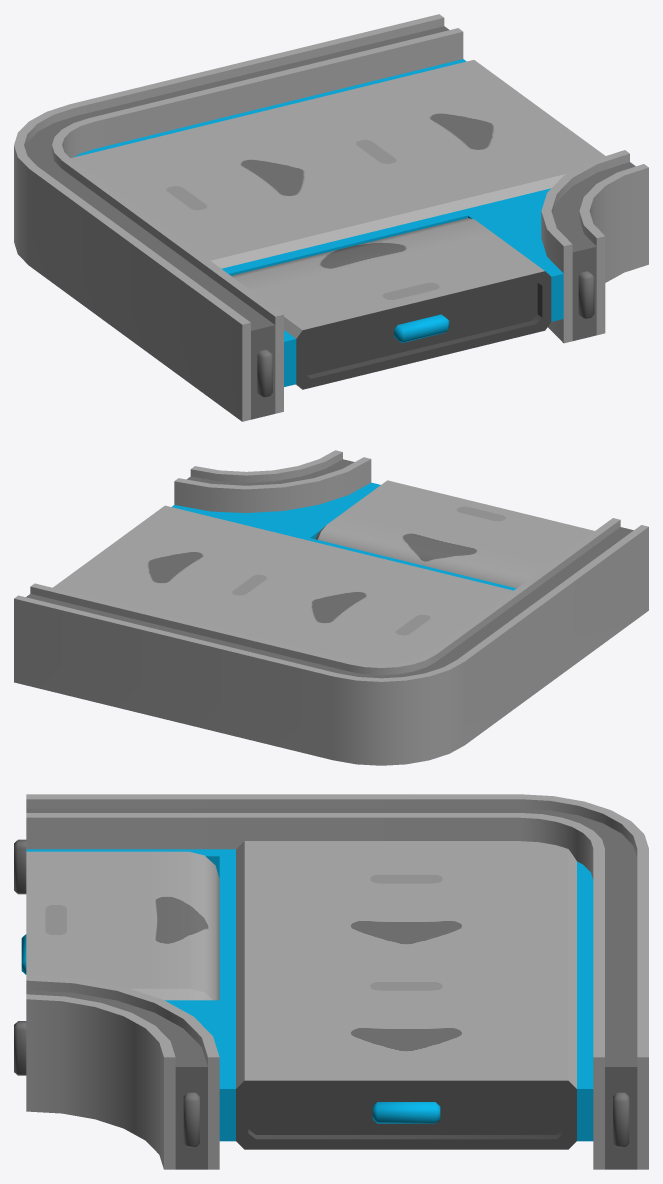
The model's file is Conveyor_Belt_2nd_Turn_01.fbx.
3 renders of one model, top to bottom at view 1: azimuth 30°, elevation 25°; view 2: azimuth 150°, elevation 25°; view 3: azimuth 270°, elevation 25°, orthographic. The views are drawn at different scales.
Visible parts, largest first — view 1: Conveyor_Belt_2nd_Turn_01; view 2: Conveyor_Belt_2nd_Turn_01; view 3: Conveyor_Belt_2nd_Turn_01.
Boxes of the visible parts, x1=… form: Conveyor_Belt_2nd_Turn_01: x1=14, y1=14, x2=648, y2=421; Conveyor_Belt_2nd_Turn_01: x1=14, y1=450, x2=648, y2=765; Conveyor_Belt_2nd_Turn_01: x1=14, y1=794, x2=648, y2=1169.
Bounding box in the file's own units: 167 × 32.6 × 167.
